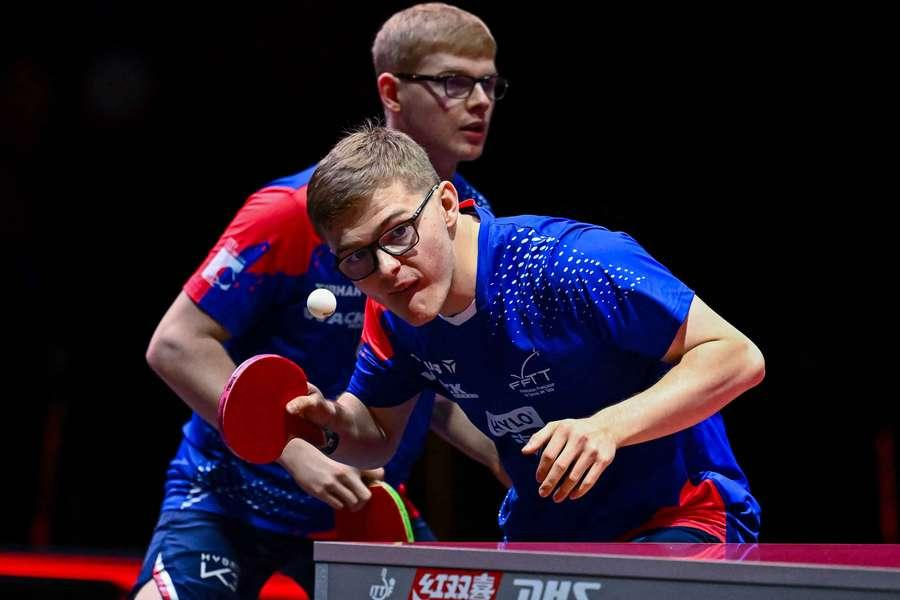ball_pingpong: (304, 285, 337, 318)
